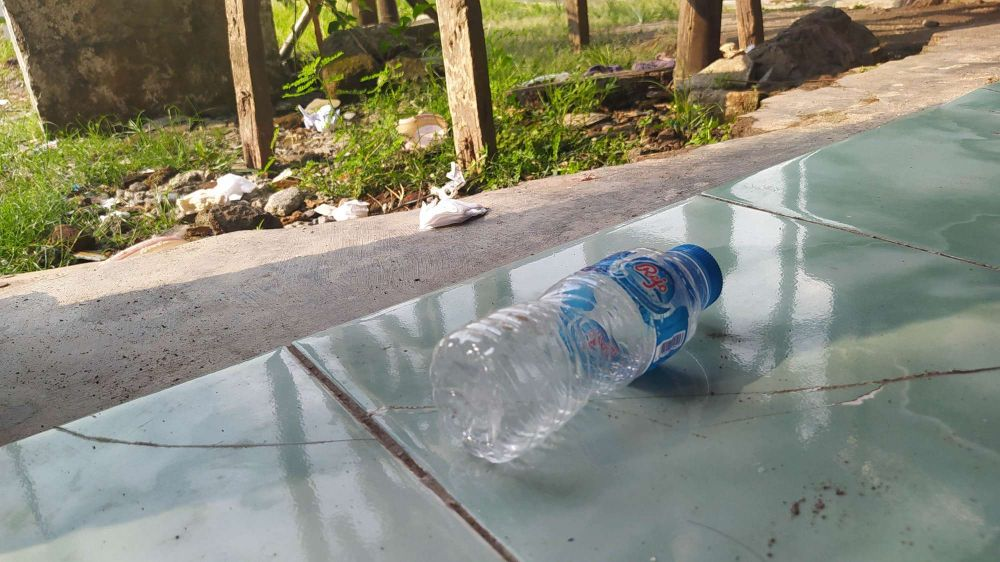botol: (420, 225, 732, 463)
